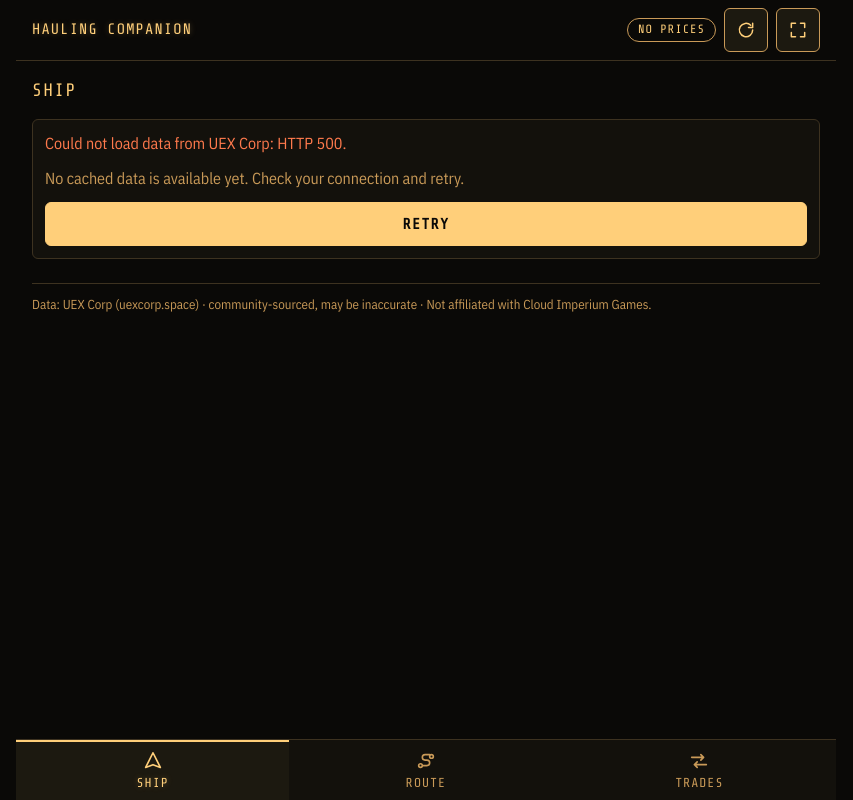
Scenario: App wiring › shows a blocking error with Retry when the first load fails, then recovers
Expected: the message that starts with "Could not load data from UEX Corp" is shown, [45,133,270,153]
Click the button "Retry" at (426, 224), box [45,202,807,246]
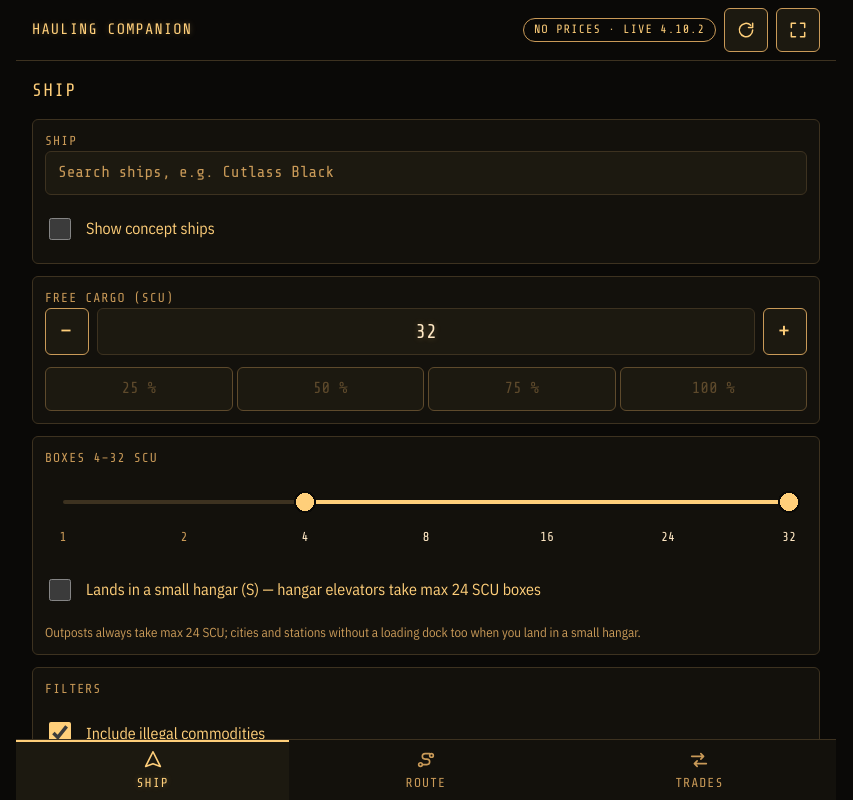
Now the dropdown labelled "Ship" is shown, box [45,151,807,195]
